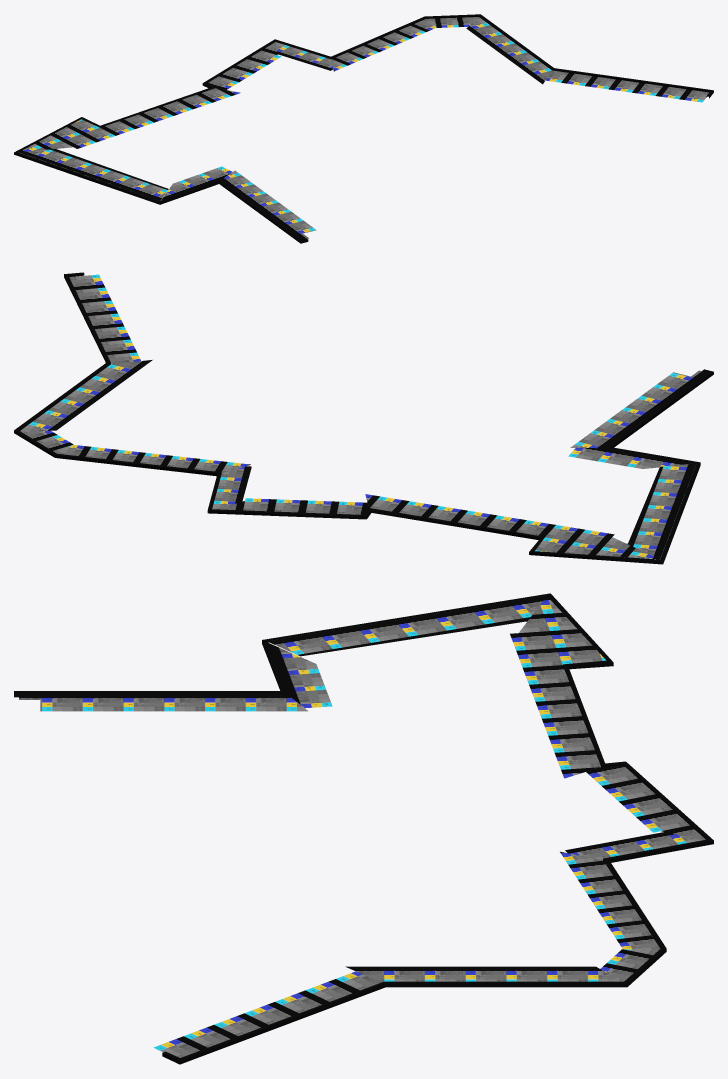
The model's file is chinatown_sidewalk_6.fbx.
3 views of the same model, one above another, from view 1: azimuth 30°, elevation 25°; view 2: azimuth 150°, elevation 25°; view 3: azimuth 270°, elevation 25° (orthographic). The views are drawn at different scales.
Parts seen in each view (by area): view 1: chinatown_curb_6, curb_tiles_004, curb_tiles_001, curb_tiles_002, curb_tiles_010, curb_tiles_009, curb_tiles_007, curb_tiles_005, curb_tiles_006, curb_tiles_008; view 2: chinatown_curb_6, curb_tiles_004, curb_tiles_001, curb_tiles_002, curb_tiles_010, curb_tiles_009, curb_tiles_007, curb_tiles_005, curb_tiles_006, curb_tiles_008; view 3: chinatown_curb_6, curb_tiles_004, curb_tiles_001, curb_tiles_002, curb_tiles_010, curb_tiles_009, curb_tiles_007, curb_tiles_005, curb_tiles_006, curb_tiles_008.
Part boxes in pixels (x1,y1,x2,y2): chinatown_curb_6: (14, 14, 713, 243); curb_tiles_004: (19, 88, 240, 152); curb_tiles_001: (161, 166, 316, 239); curb_tiles_002: (19, 149, 168, 200); curb_tiles_010: (545, 70, 708, 102); curb_tiles_009: (466, 17, 551, 84); curb_tiles_007: (331, 19, 436, 71); curb_tiles_005: (207, 42, 281, 89); curb_tiles_006: (275, 42, 333, 70); curb_tiles_008: (426, 17, 478, 27); chinatown_curb_6: (14, 272, 713, 564); curb_tiles_004: (365, 494, 659, 559); curb_tiles_001: (568, 370, 707, 468); curb_tiles_002: (627, 463, 696, 558); curb_tiles_010: (69, 274, 140, 364); curb_tiles_009: (20, 360, 152, 431); curb_tiles_007: (59, 445, 250, 473); curb_tiles_005: (216, 498, 368, 514); curb_tiles_006: (212, 466, 251, 509); curb_tiles_008: (22, 430, 73, 453); chinatown_curb_6: (14, 593, 713, 1064); curb_tiles_004: (510, 596, 606, 778); curb_tiles_001: (19, 642, 332, 711); curb_tiles_002: (267, 596, 546, 656); curb_tiles_010: (153, 971, 380, 1057); curb_tiles_009: (345, 966, 620, 982); curb_tiles_007: (560, 851, 660, 949); curb_tiles_005: (586, 765, 705, 839); curb_tiles_006: (565, 832, 702, 859); curb_tiles_008: (600, 949, 658, 981).
Size of the model in its own units: 4095 by 25.32 by 2576.
